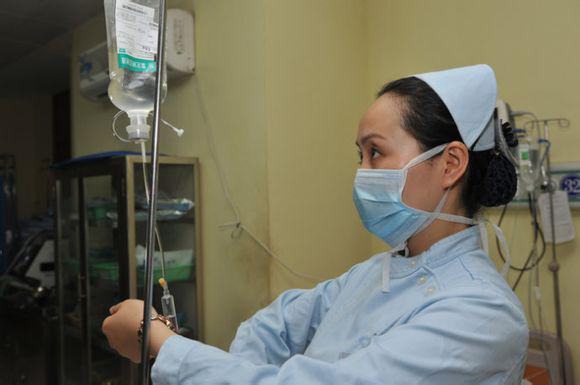OK: (352, 134, 451, 246)
